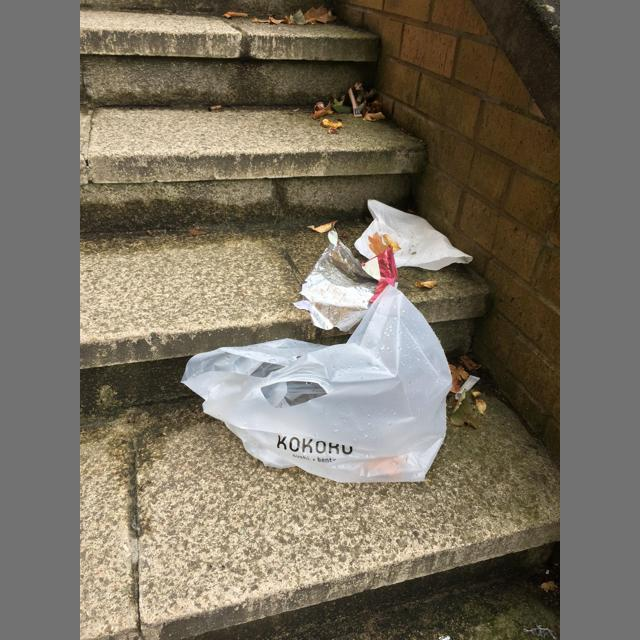litter: (180, 284, 453, 483), (293, 222, 398, 331), (354, 199, 473, 270), (455, 375, 480, 400), (348, 88, 362, 117)
